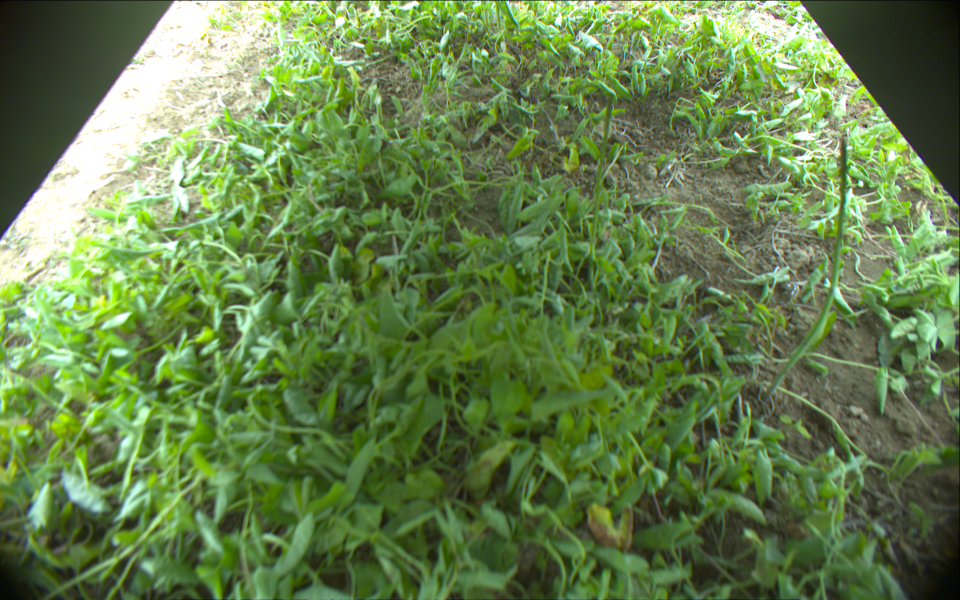aspa: (763, 134, 849, 398), (589, 93, 614, 259)
